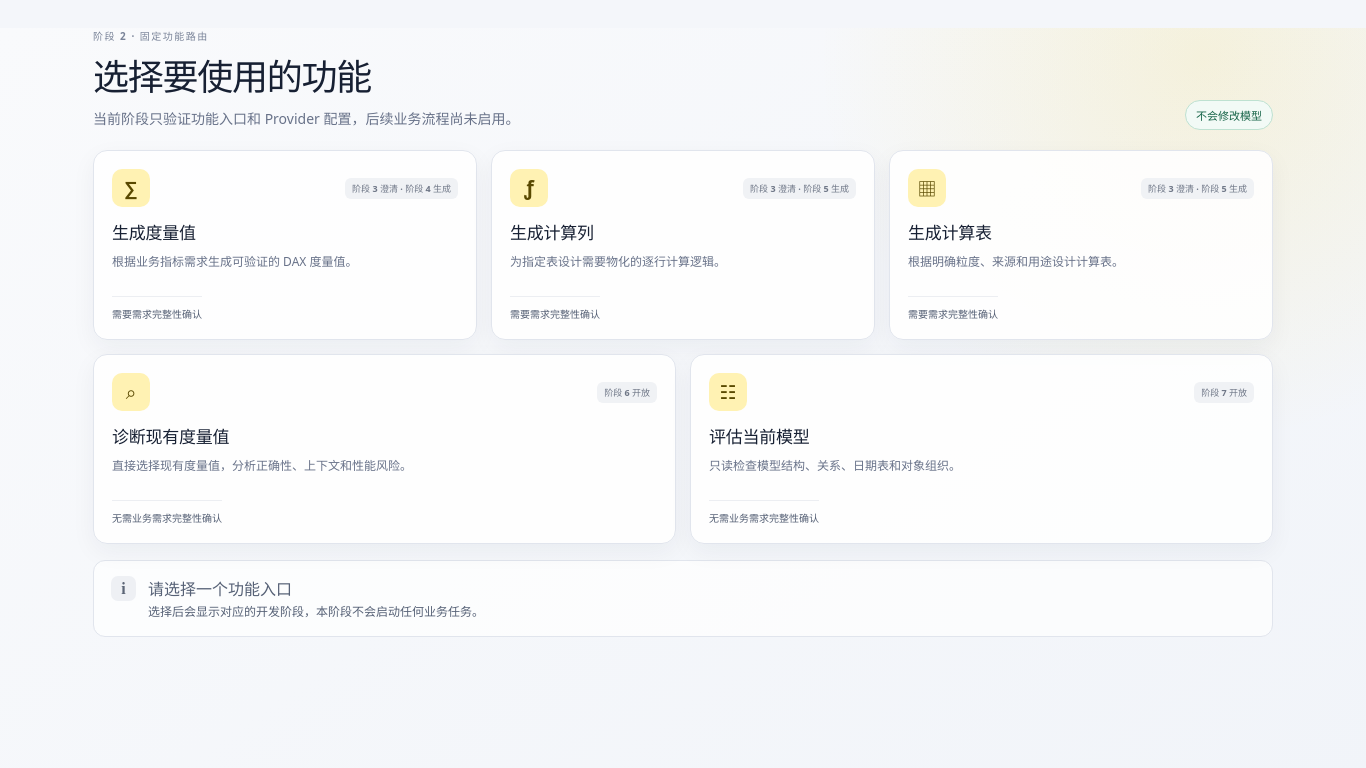
FeatureHome 阶段 2 固定功能首页 › 选择“生成计算列”时仅显示对应阶段边界
Click the button "ƒ 阶段 3 澄清 · 阶段 5 生成 生成计算列 为指定表设计需要物化的逐行计算逻辑。 需要需求完整性确认".
click(529, 188)  # box [491,150,875,340]
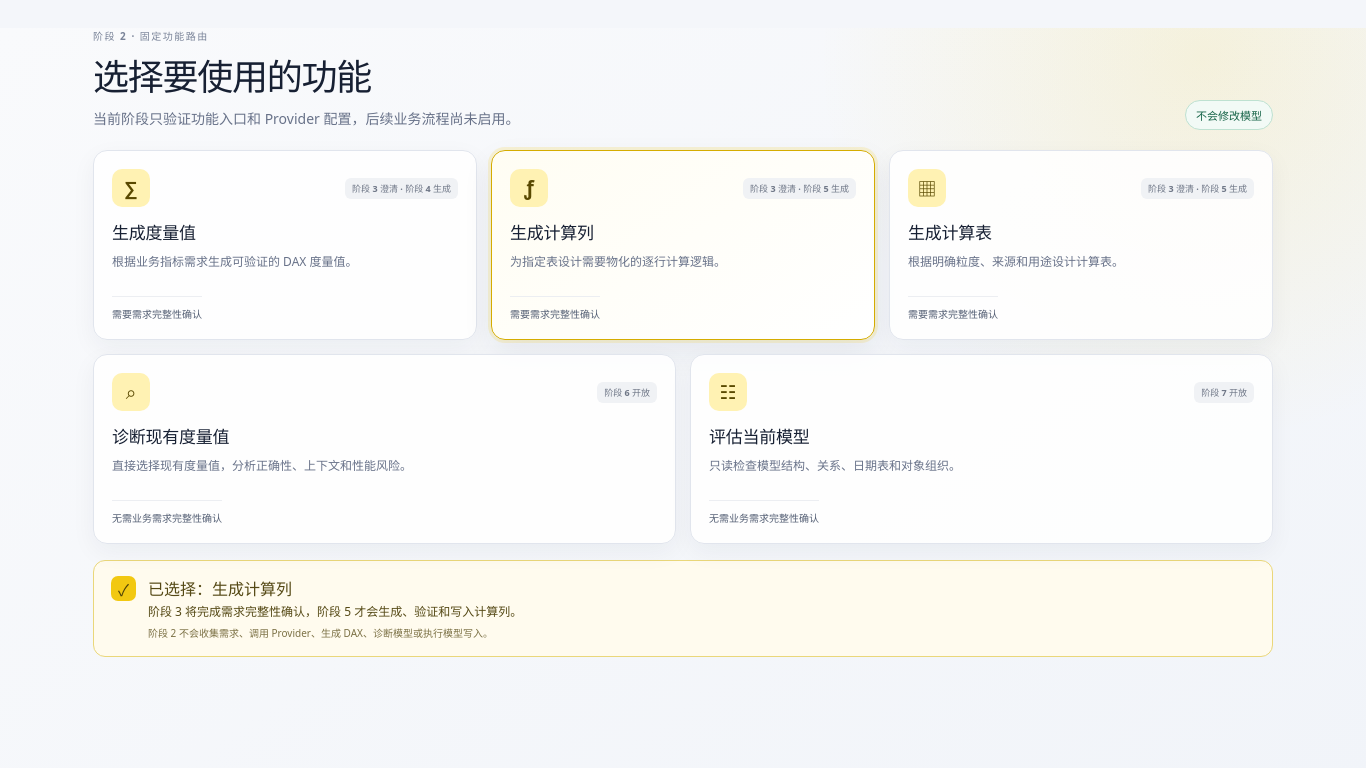
Result: the message shows "阶段 5 才会生成、验证和写入计算列" at [148,603,522,620]
Result: the message shows "不会收集需求、调用 Provider、生成 DAX、诊断模型或执行模型写入" at [148,626,493,640]
